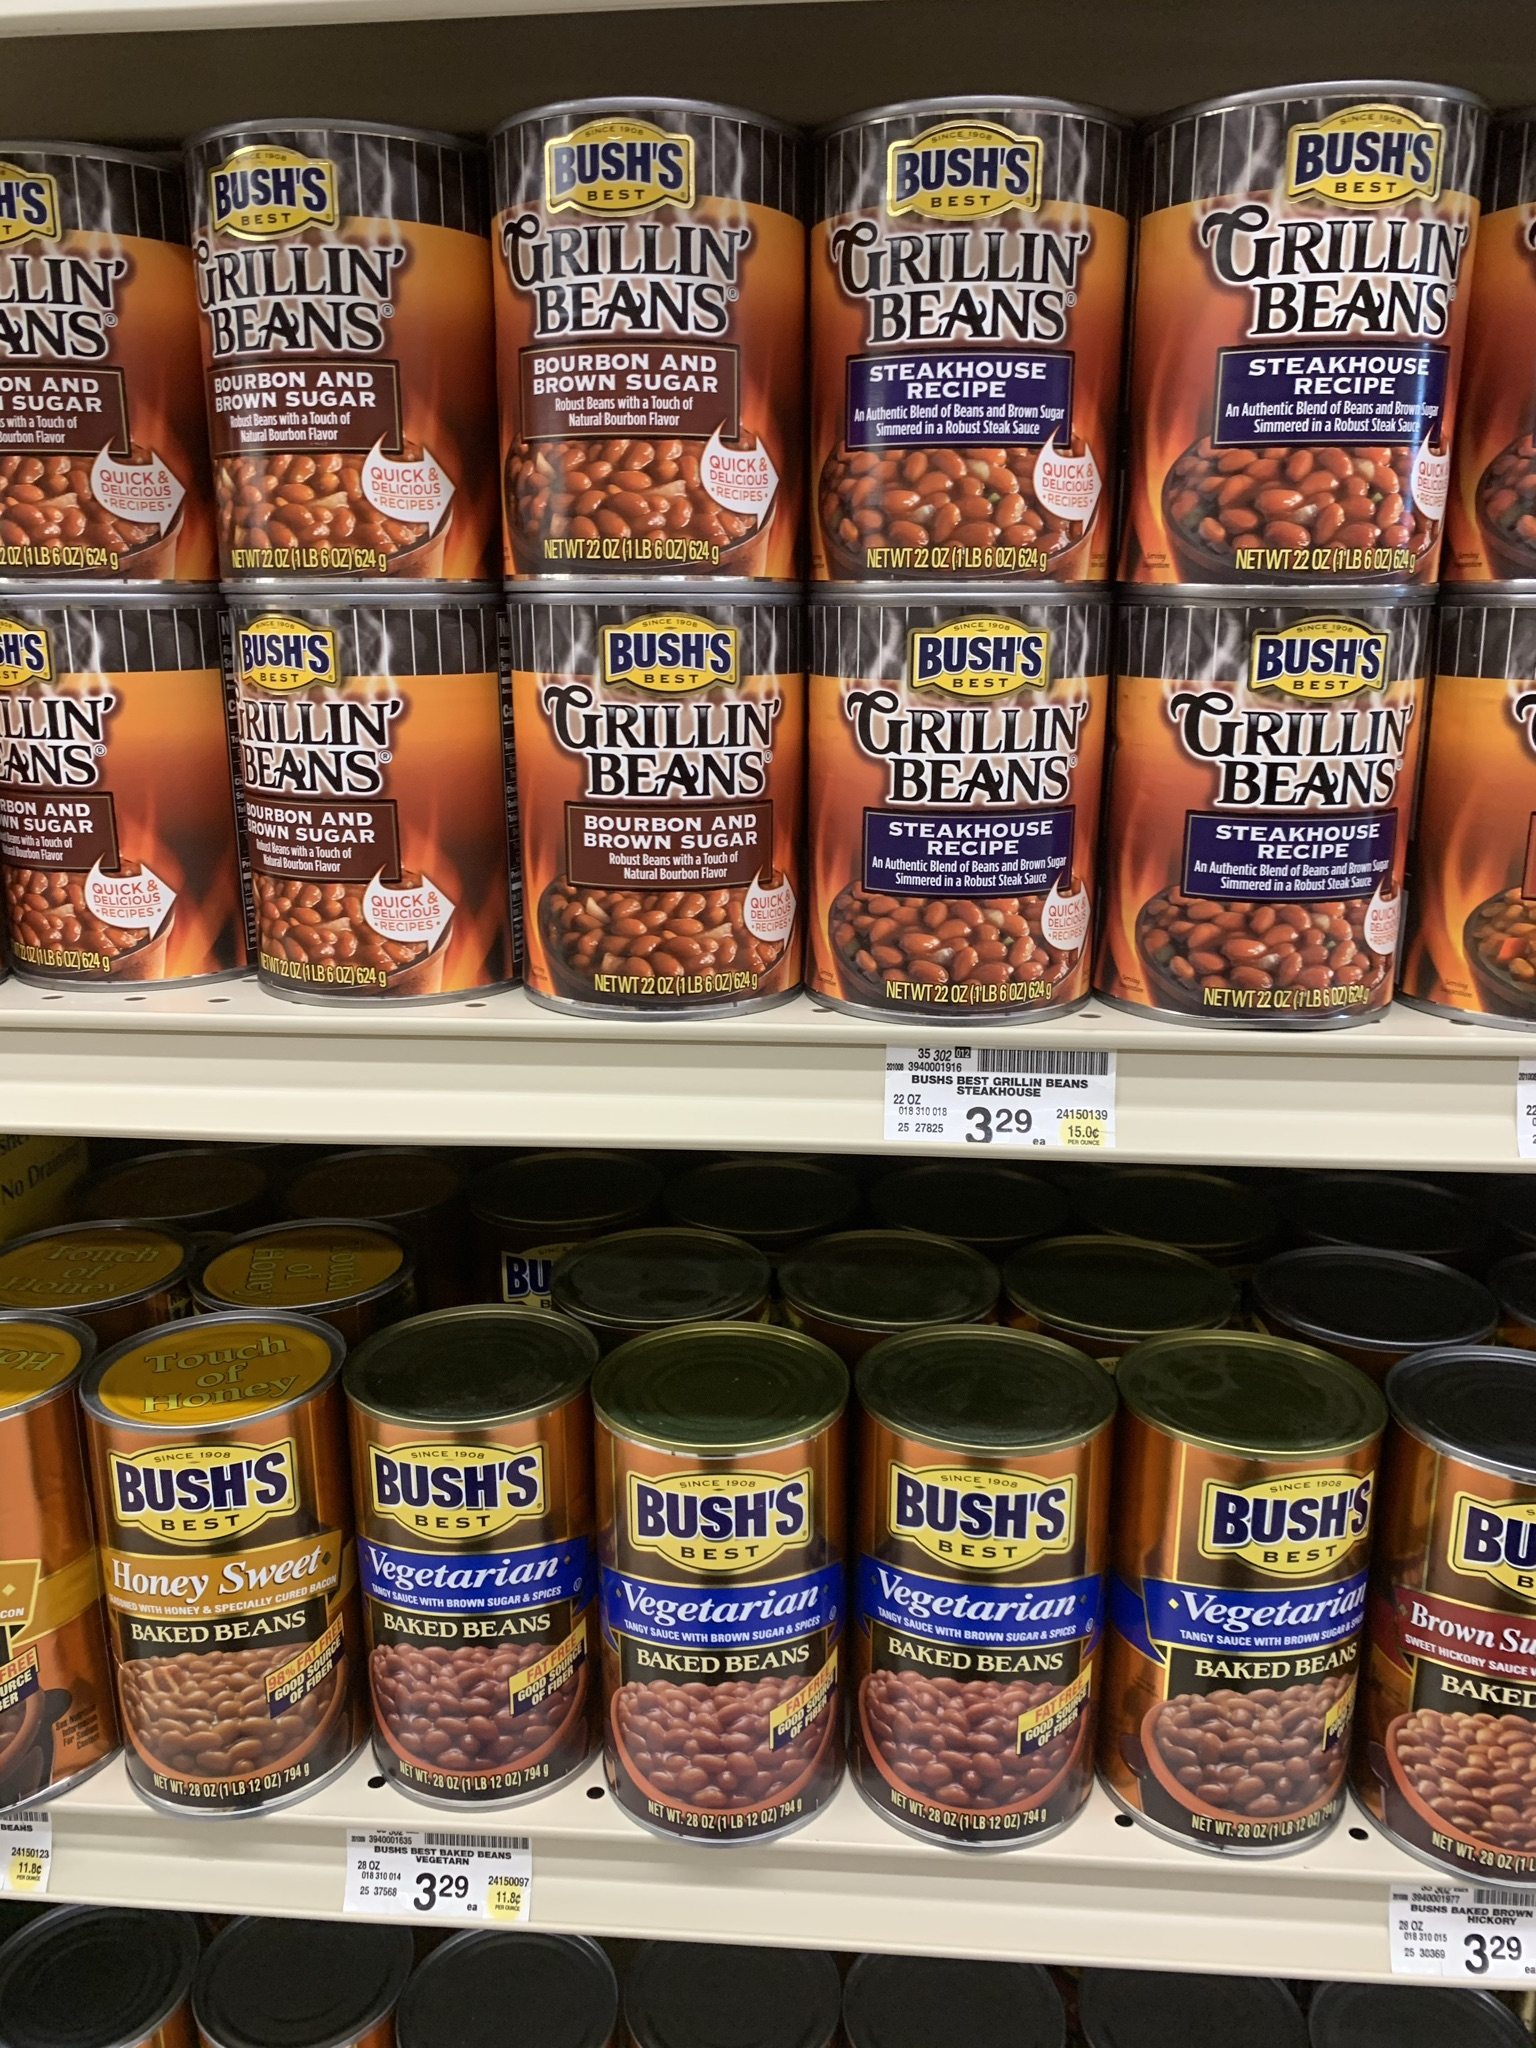can: (511, 132, 800, 585), (1170, 131, 1434, 590), (837, 140, 1112, 574), (215, 152, 473, 589), (1141, 618, 1407, 1021), (826, 608, 1087, 1018), (528, 608, 787, 1006), (239, 608, 502, 997), (1142, 1422, 1355, 1817), (874, 1422, 1091, 1809), (616, 1414, 837, 1792), (369, 1384, 587, 1766), (116, 1393, 331, 1767), (11, 606, 205, 976), (10, 166, 173, 574), (1400, 1443, 1536, 1838)
